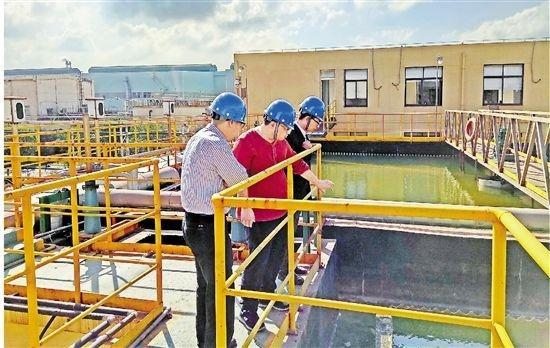helmet: (207, 93, 252, 126), (262, 99, 298, 132), (295, 97, 329, 129)
no-vest: (185, 126, 240, 222), (242, 129, 291, 206)
person: (179, 92, 254, 348)
